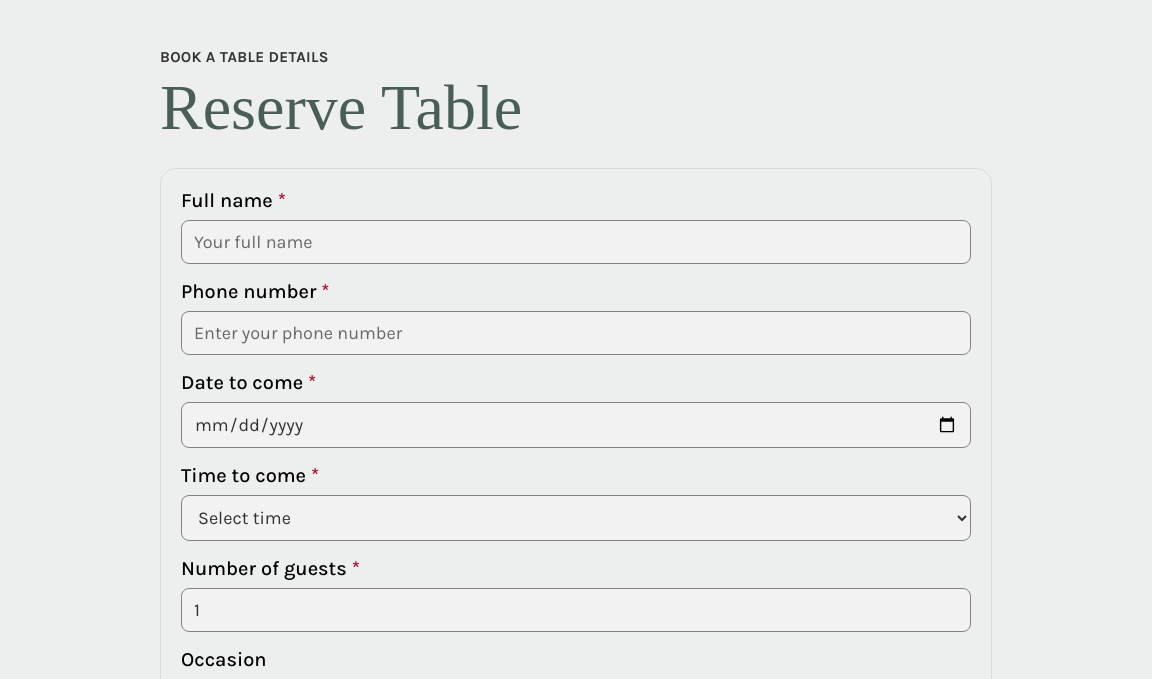
Test: submit remains disabled when full name is missing
Type "(555) 555-5555" into the field labelled "Phone number *" at {"x": 576, "y": 333}, box [181,311,971,355]
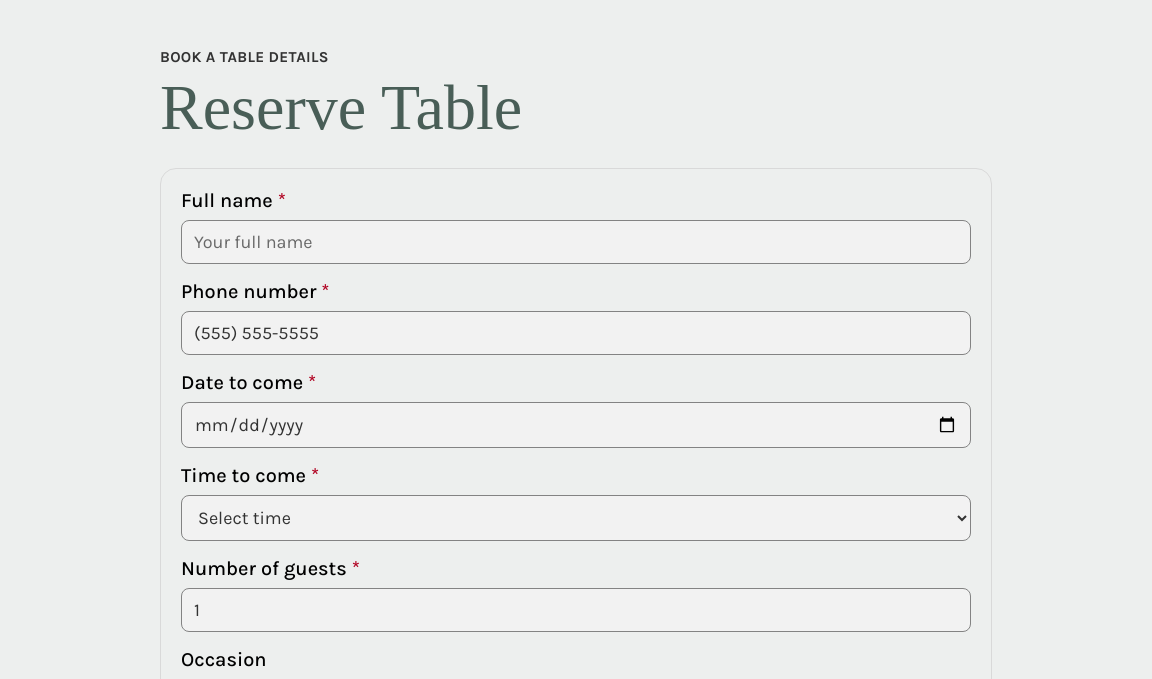
Type "2026-02-20" into the date field labelled "Date to come *" at {"x": 576, "y": 425}, box [181,402,971,448]
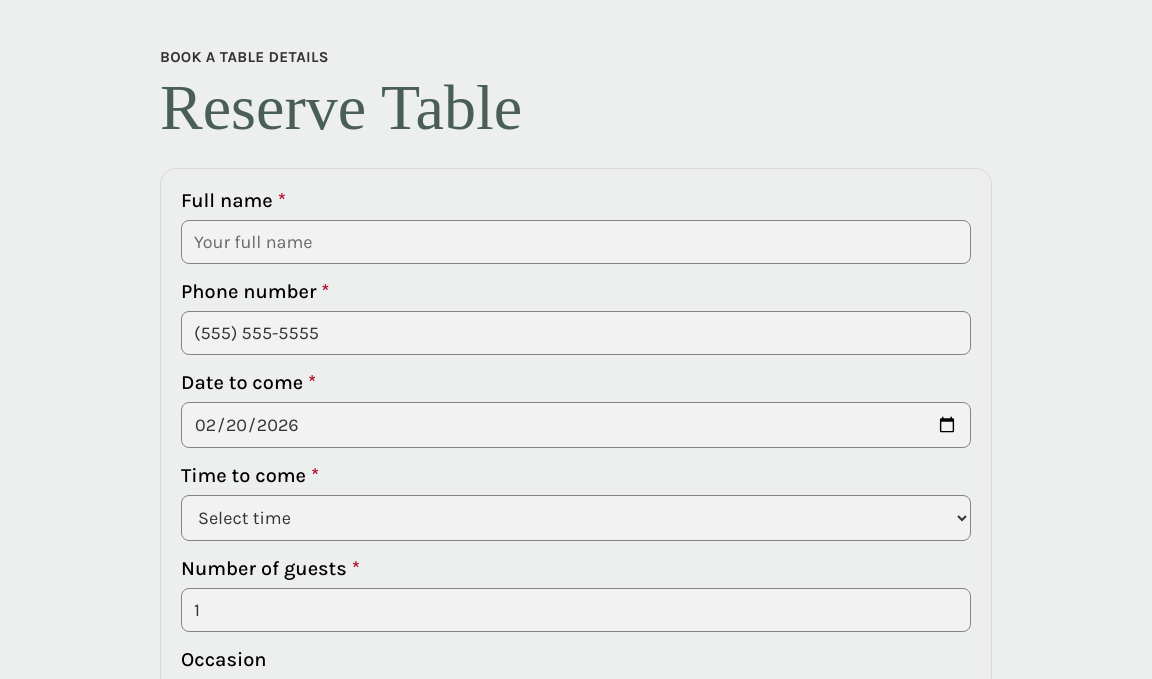
Select "5:00 PM" in the dropdown labelled "Time to come *" at {"x": 576, "y": 518}, box [181,495,971,541]
(page scrolled)
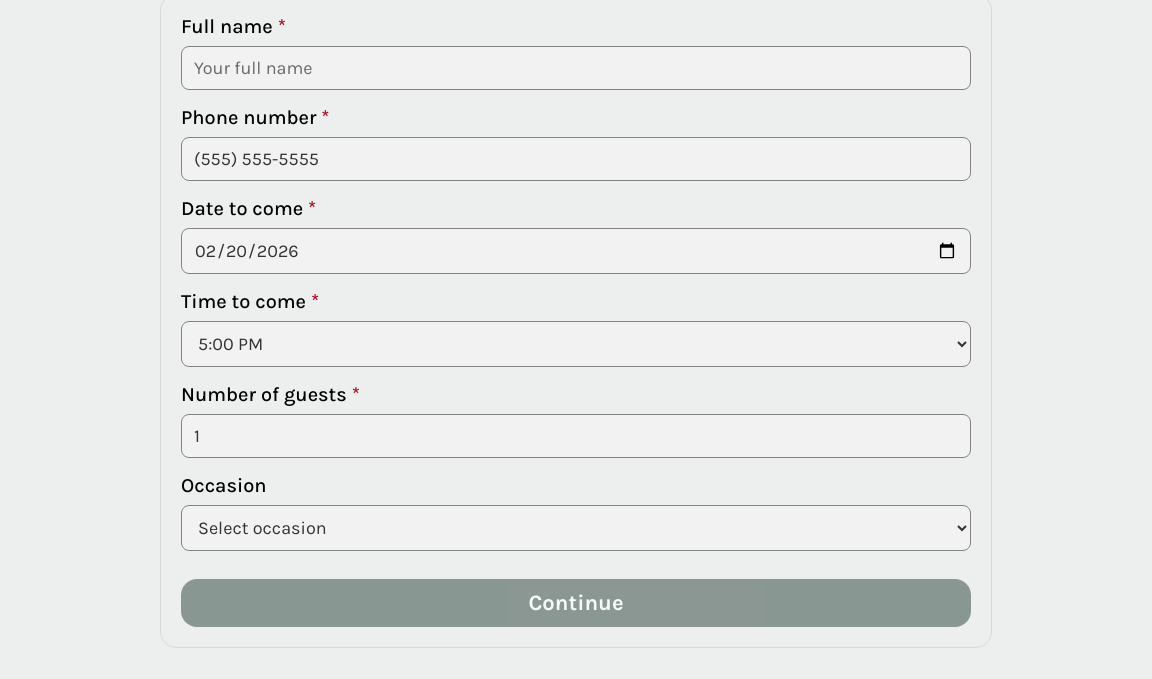
Select "Birthday" in the dropdown labelled "Occasion" at {"x": 576, "y": 528}, box [181,505,971,551]
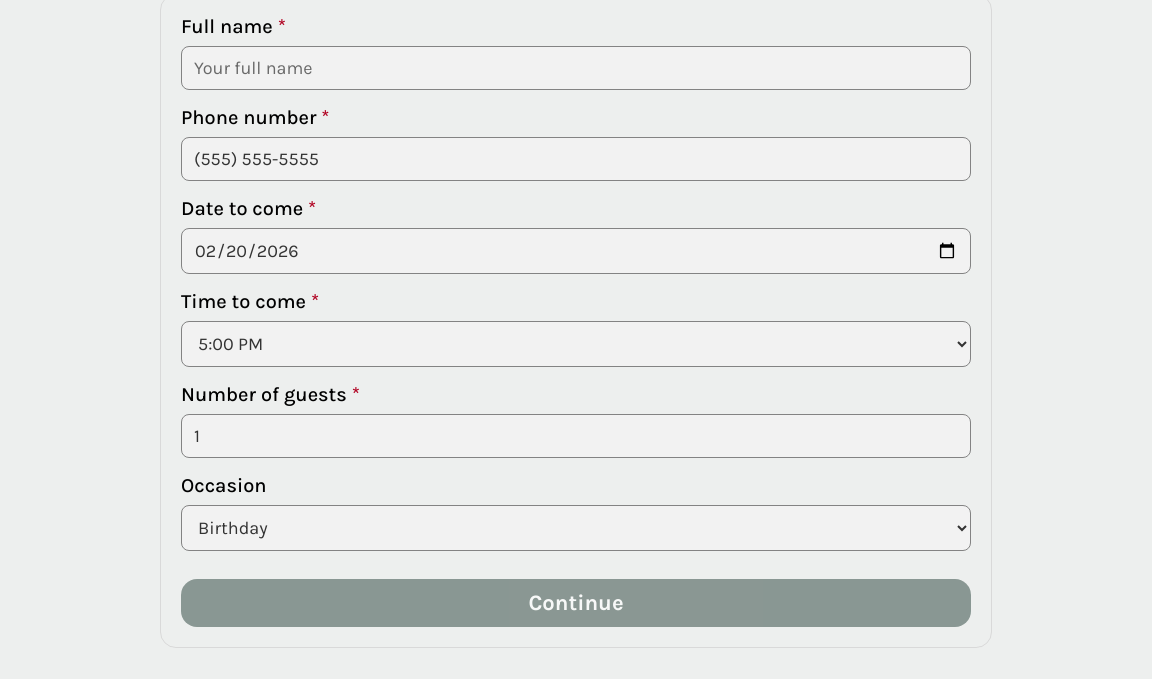
expect the button showing "Continue" is disabled: met, box [181,579,971,627]
Leave the field labelled "Full name *", box [181,46,971,90]
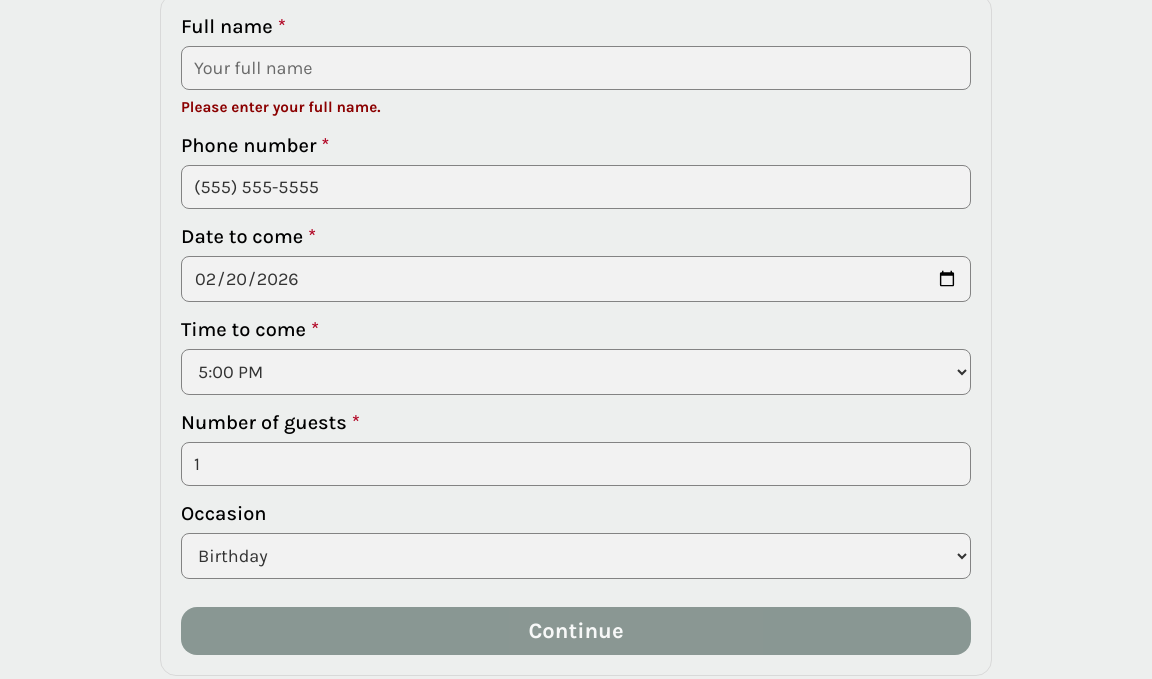
expect the text "Please enter your full name." is shown: met, box [181,98,380,116]
